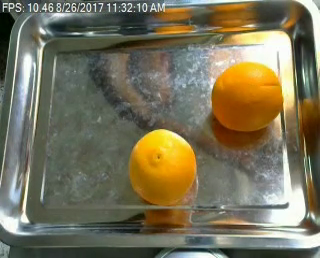Orange: (127, 127, 196, 204), (209, 61, 282, 132)
